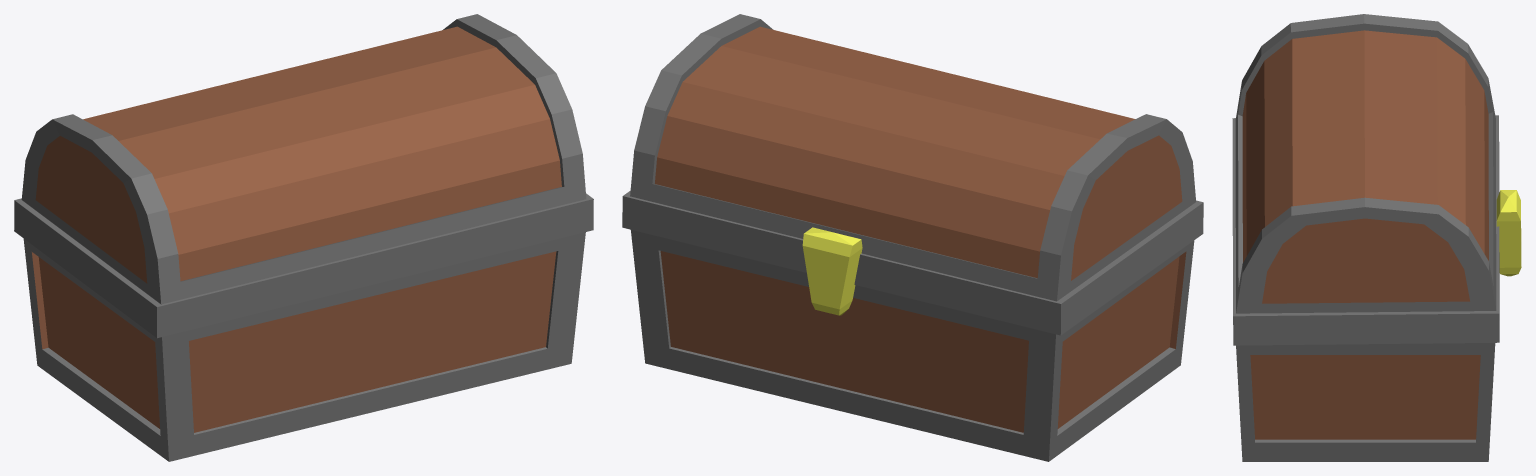
File: ChestClosed.glb
The picture shows the model from 3 angles, left to right: view 1: azimuth 30°, elevation 25°; view 2: azimuth 150°, elevation 25°; view 3: azimuth 270°, elevation 25°; orthographic projection. The views are drawn at different scales.
Parts seen in each view (by area): view 1: Plane, Plane.001; view 2: Plane, Plane.001, Plane.002; view 3: Plane, Plane.001, Plane.002.
Boxes of the visible parts, x1,y1,x2,y2 form: Plane: [14, 14, 593, 338]; Plane.001: [23, 232, 585, 461]; Plane: [622, 14, 1203, 335]; Plane.001: [631, 230, 1194, 461]; Plane.002: [802, 227, 862, 315]; Plane: [1232, 14, 1499, 345]; Plane.001: [1236, 343, 1495, 461]; Plane.002: [1496, 190, 1521, 276].
Size of the model in its own units: 5.25 by 3.19 by 3.21.
